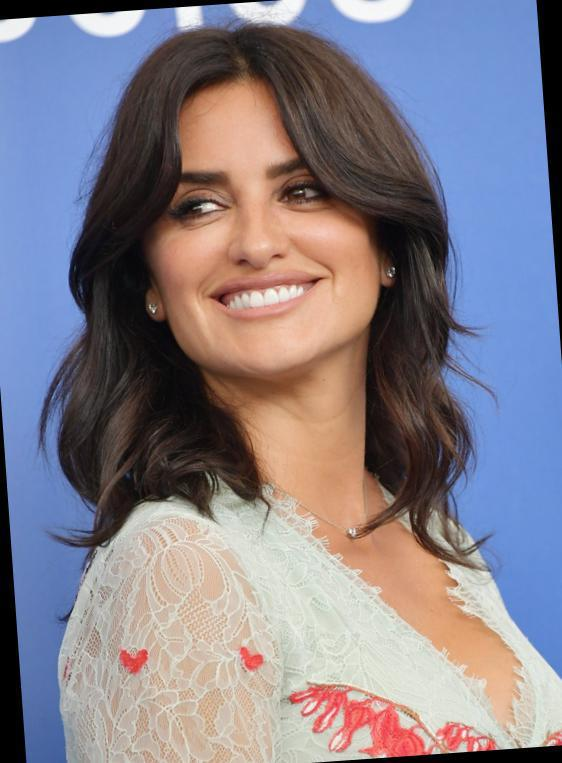Sober: (142, 87, 373, 344)
